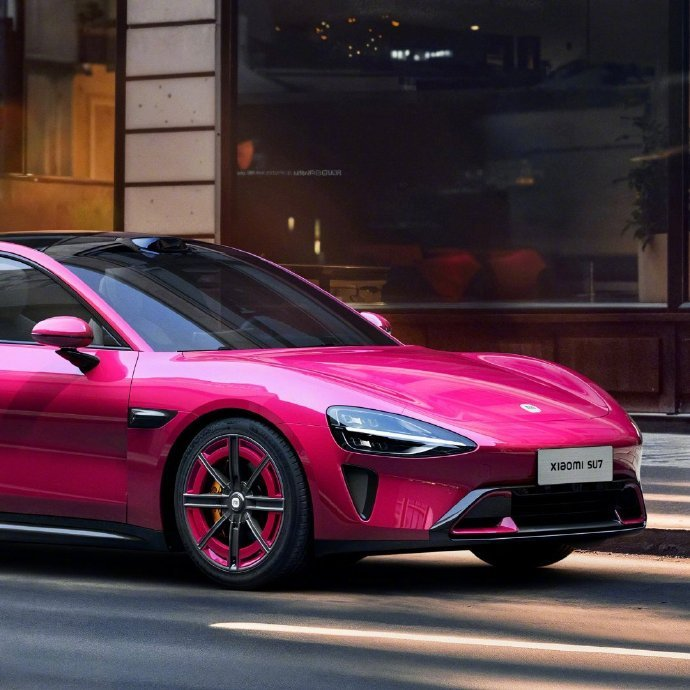su7: (5, 221, 654, 583)
